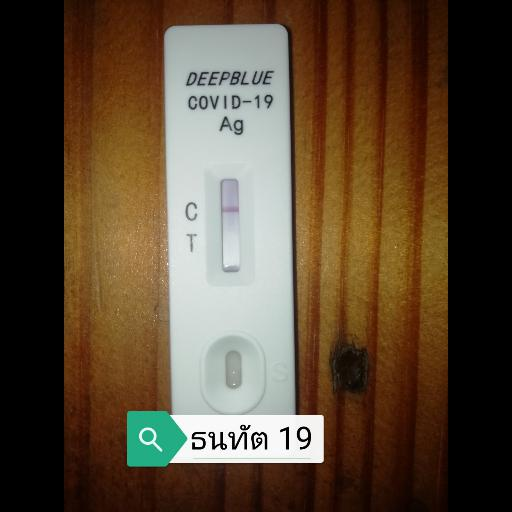Neg: (162, 25, 292, 417)
